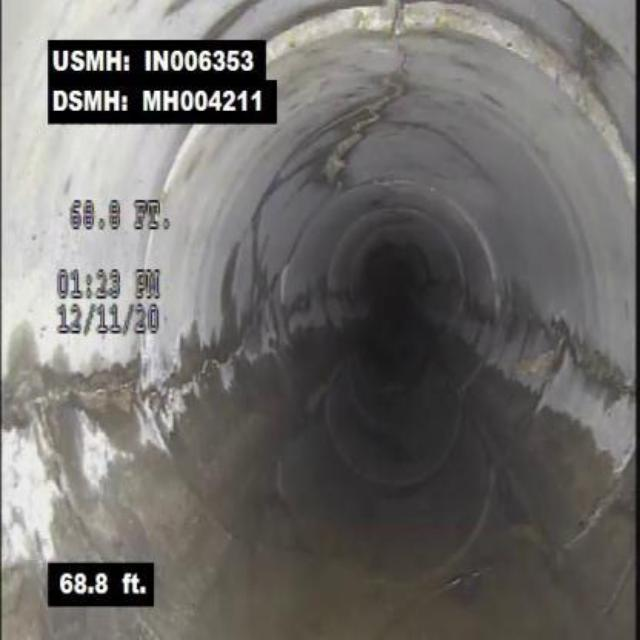Buckling: (326, 95, 398, 177)
Crack: (0, 368, 138, 449), (140, 352, 231, 406), (566, 338, 634, 405), (383, 37, 420, 92)
Joint offset: (418, 3, 603, 115), (268, 3, 385, 62)
